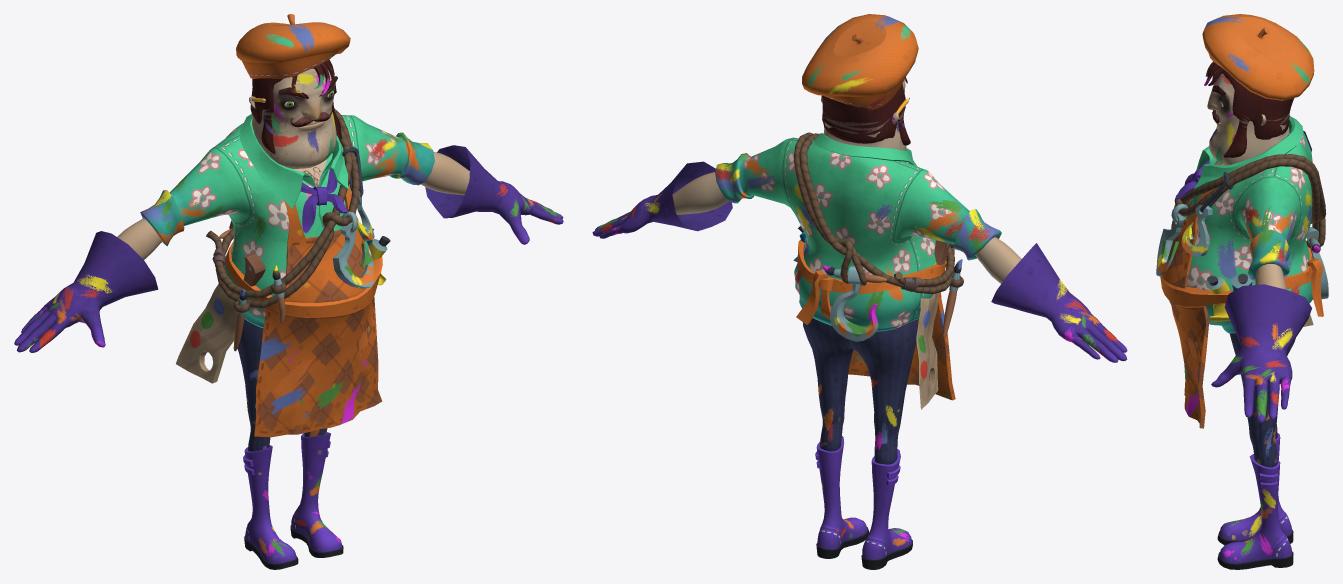
3 renders of one model, left to right at view 1: azimuth 30°, elevation 25°; view 2: azimuth 150°, elevation 25°; view 3: azimuth 270°, elevation 25°, orthographic. The views are drawn at different scales.
Visible parts, largest first — view 1: ACCESSORY_Painter_Rope, TORSO_Painter_Body, TORSO_Painter_Gloves, LEGS_Painter_Pants, HEAD_Painter_Face_NoFPS, HEAD_Painter_Hat_NoFPS, TORSO_Painter_Arms, HEAD_Painter_Hair_NoFPS.001; view 2: TORSO_Painter_Body, LEGS_Painter_Pants, ACCESSORY_Painter_Rope, TORSO_Painter_Gloves, HEAD_Painter_Hat_NoFPS, HEAD_Painter_Hair_NoFPS.001, TORSO_Painter_Arms, HEAD_Painter_Face_NoFPS; view 3: TORSO_Painter_Body, ACCESSORY_Painter_Rope, TORSO_Painter_Gloves, HEAD_Painter_Hat_NoFPS, LEGS_Painter_Pants, HEAD_Painter_Hair_NoFPS.001, HEAD_Painter_Face_NoFPS, TORSO_Painter_Arms.
Part boxes in pixels (left/top/right/bottom): ACCESSORY_Painter_Rope: left=176, top=108, right=390, bottom=437; TORSO_Painter_Body: left=140, top=114, right=434, bottom=327; TORSO_Painter_Gloves: left=14, top=145, right=563, bottom=352; LEGS_Painter_Pants: left=237, top=319, right=343, bottom=569; HEAD_Painter_Face_NoFPS: left=249, top=67, right=337, bottom=168; HEAD_Painter_Hat_NoFPS: left=236, top=14, right=350, bottom=102; TORSO_Painter_Arms: left=117, top=151, right=469, bottom=259; HEAD_Painter_Hair_NoFPS.001: left=250, top=59, right=341, bottom=153; TORSO_Painter_Body: left=715, top=133, right=1001, bottom=331; LEGS_Painter_Pants: left=803, top=318, right=917, bottom=569; ACCESSORY_Painter_Rope: left=793, top=132, right=963, bottom=409; TORSO_Painter_Gloves: left=592, top=161, right=1127, bottom=362; HEAD_Painter_Hat_NoFPS: left=802, top=14, right=918, bottom=119; HEAD_Painter_Hair_NoFPS.001: left=821, top=84, right=910, bottom=145; TORSO_Painter_Arms: left=672, top=172, right=1021, bottom=283; HEAD_Painter_Face_NoFPS: left=821, top=77, right=907, bottom=150; TORSO_Painter_Body: left=1175, top=116, right=1312, bottom=333; ACCESSORY_Painter_Rope: left=1156, top=154, right=1328, bottom=428; TORSO_Painter_Gloves: left=1211, top=130, right=1311, bottom=423; HEAD_Painter_Hat_NoFPS: left=1202, top=14, right=1314, bottom=100; LEGS_Painter_Pants: left=1217, top=333, right=1295, bottom=569; HEAD_Painter_Hair_NoFPS.001: left=1204, top=62, right=1294, bottom=157; HEAD_Painter_Face_NoFPS: left=1207, top=71, right=1289, bottom=165; TORSO_Painter_Arms: left=1255, top=264, right=1286, bottom=289.
Bounding box in the file's own units: 2.1 × 1.97 × 0.5819.
8 materials, 8 textured.
